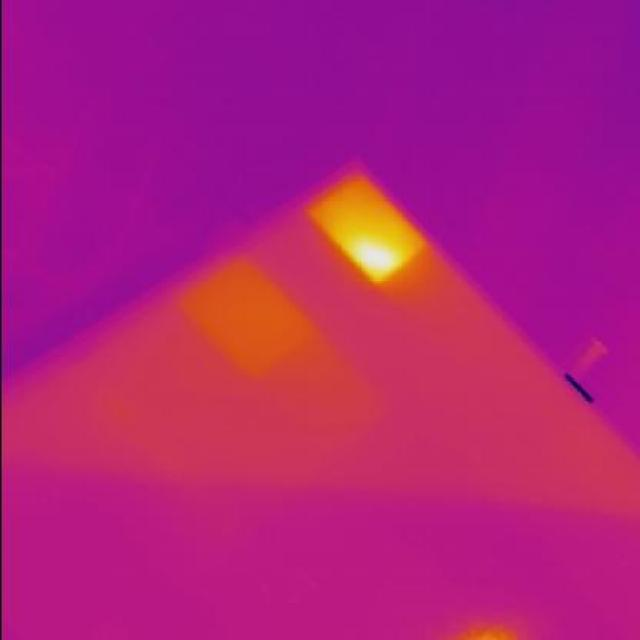hotspot: (172, 254, 318, 388), (302, 164, 436, 291)
